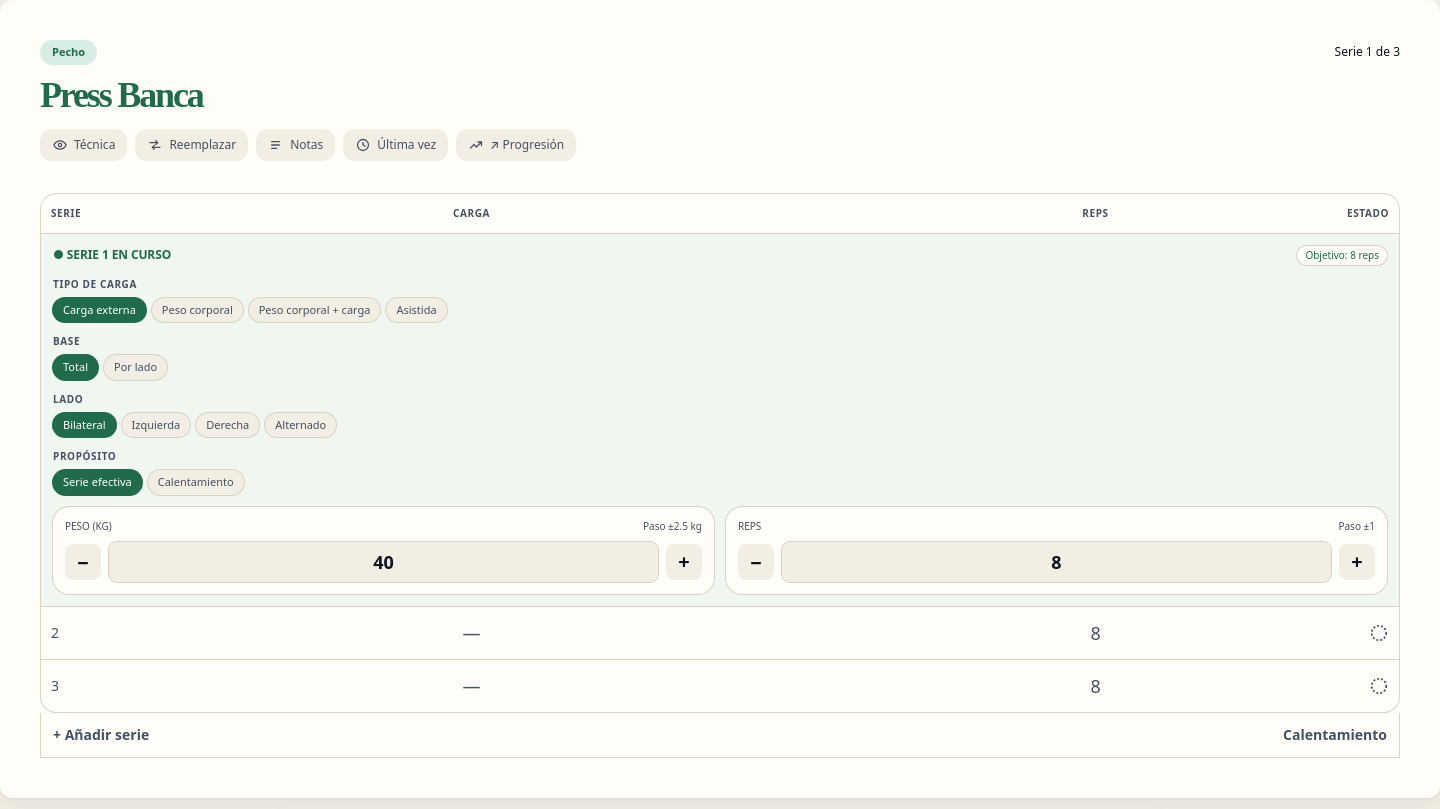
it: GuidedExerciseCard › comparable progression › keeps Última vez (raw memory) and comparable progression as distinct panels
The width and height of the screenshot is (1440, 809).
Click the button with aria-label "Mostrar última vez". click: (396, 144)
box: x1=343 y1=128 x2=448 y2=160
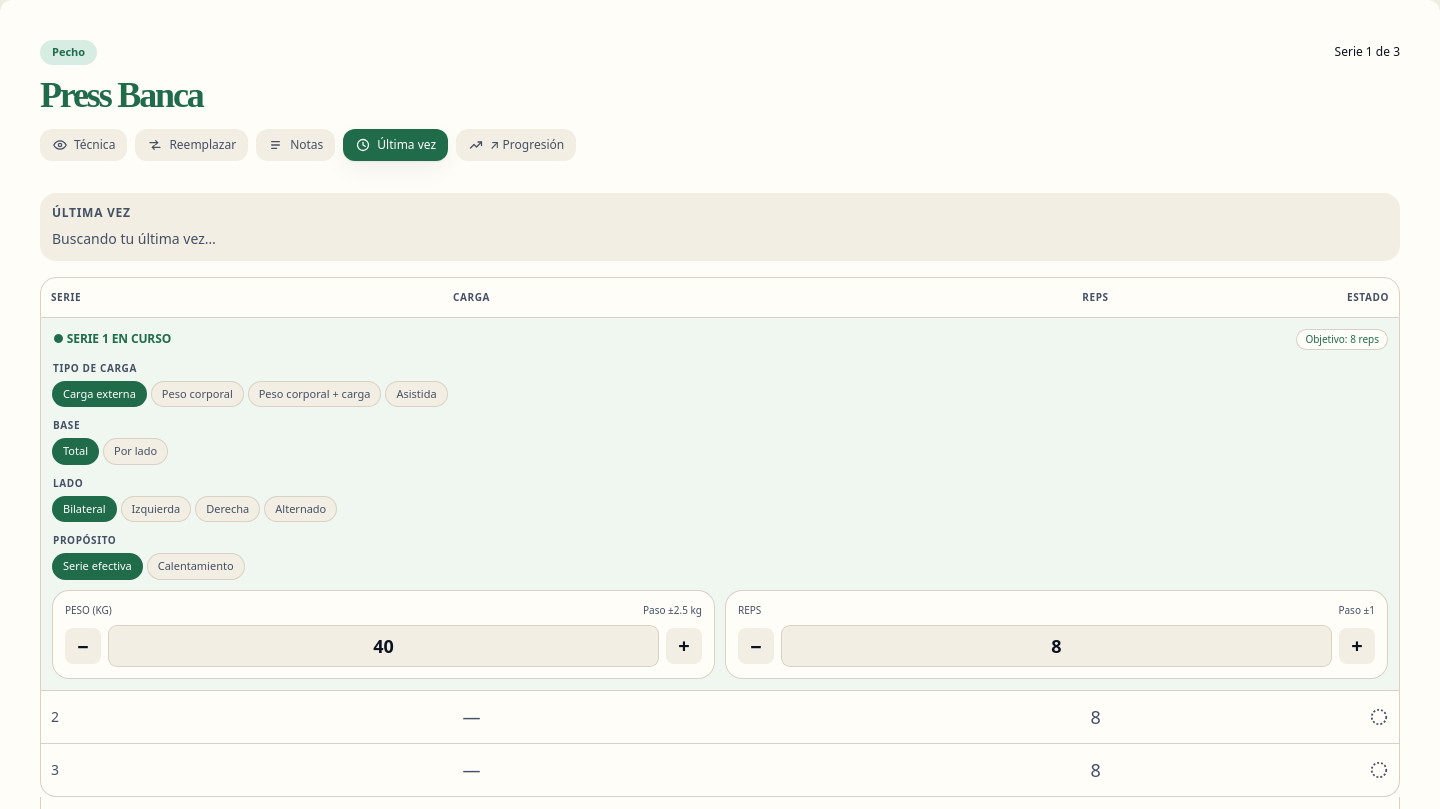
Expected: the element with test id "last-time-panel" is shown, x1=40 y1=192 x2=1400 y2=260
Click the button with aria-label "Mostrar progresión comparable". click: (516, 144)
box: x1=456 y1=128 x2=576 y2=160
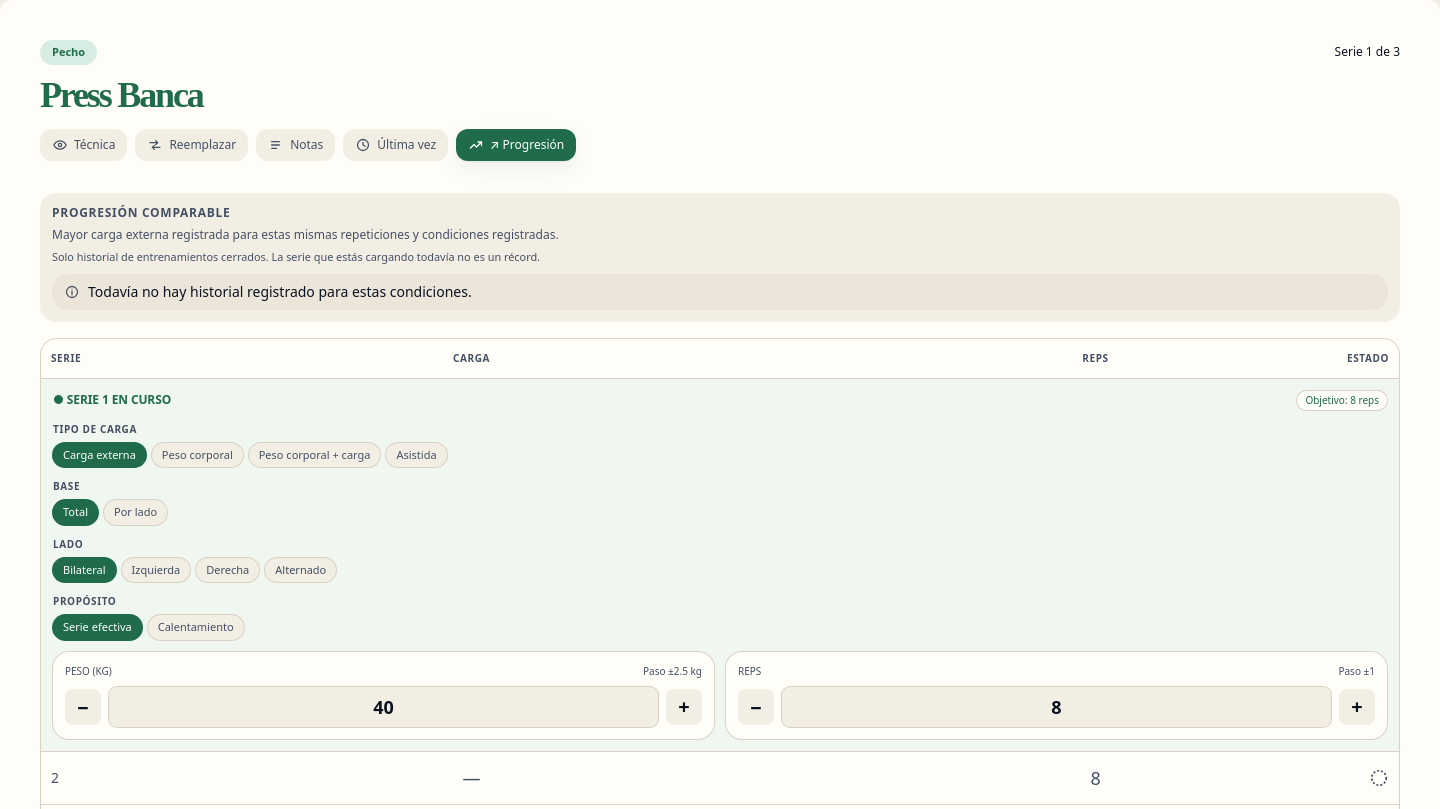
Expected: the element with test id "exercise-progression-panel" is shown, x1=40 y1=192 x2=1400 y2=322
Expected: the element with test id "last-time-panel" is gone
